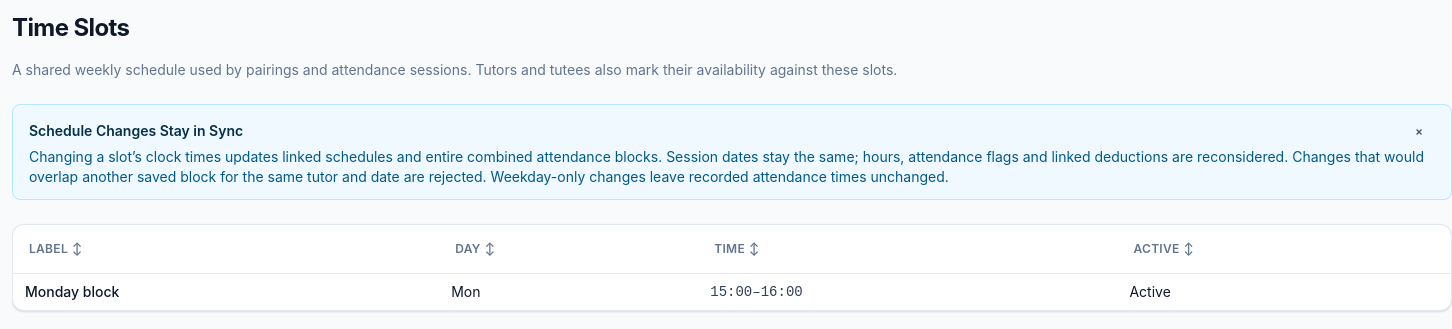
Test: shows complete time-slot rows and propagation help without editing actions for viewers
Expected: the text "Mon" is shown, [439,274,698,310]
Expected: the text "15:00–16:00" is shown, [698,274,1118,310]
Click the button named "Dismiss" at (1419, 131), box [1403,117,1435,145]
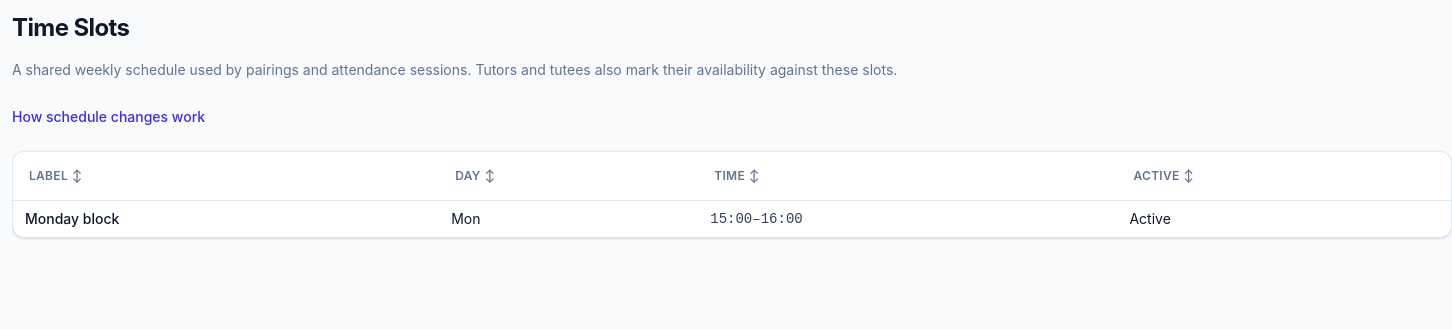
Click the button "How schedule changes work" at (109, 117), box [12,107,205,127]
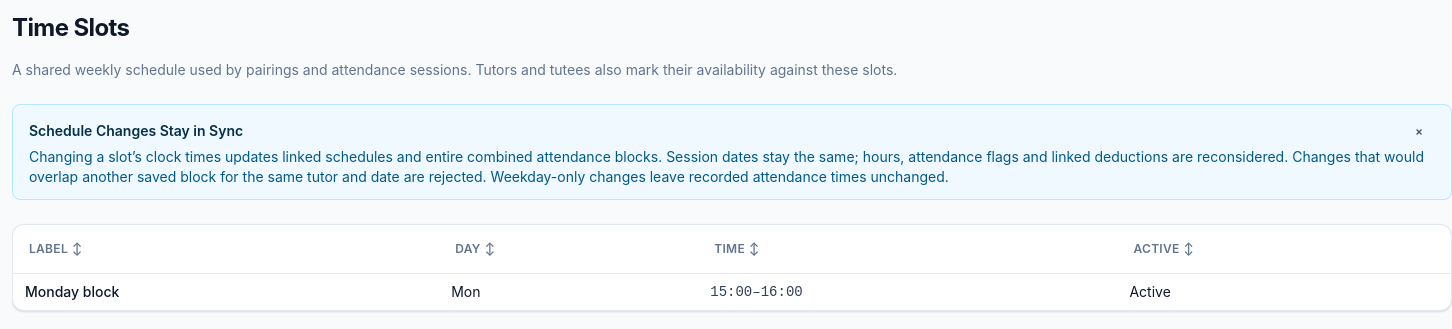
Now the text "Changing a slot’s clock times updates linked schedules and entire combined attendance blocks. Session dates stay the sam" is shown, box [29,148,1424,185]
